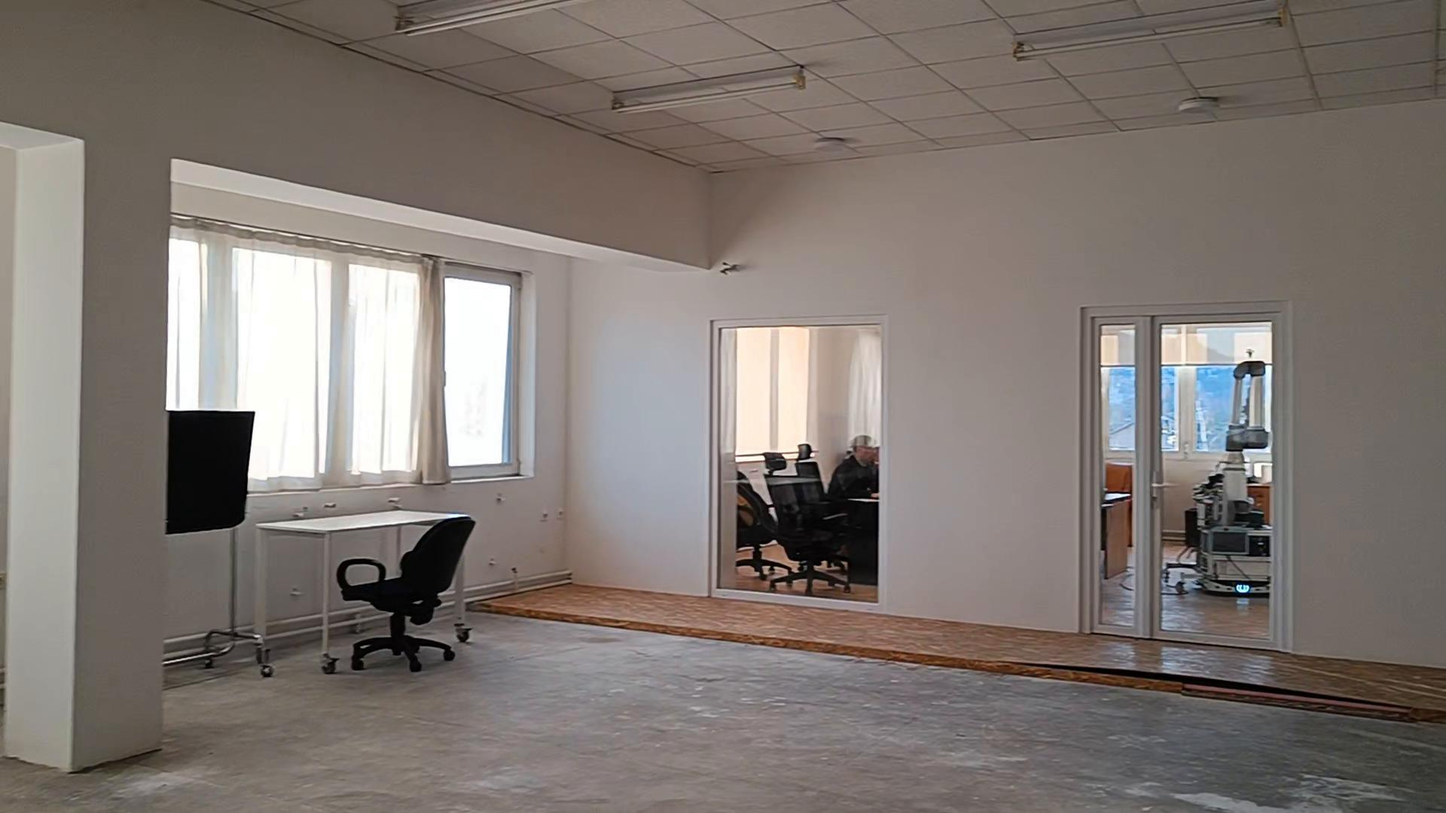ceiling: (209, 0, 1445, 172)
floor: (0, 586, 1445, 812), (1013, 629, 1282, 696)
wall: (4, 0, 710, 773), (564, 97, 1445, 662), (469, 255, 576, 588)
